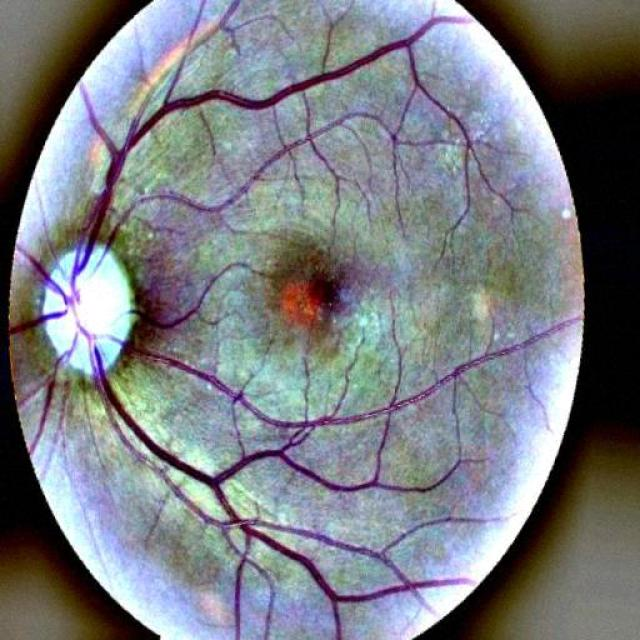Macula: (280, 274, 335, 326)
Nerves: (9, 0, 579, 639)
Optic Disk: (38, 245, 136, 378)
